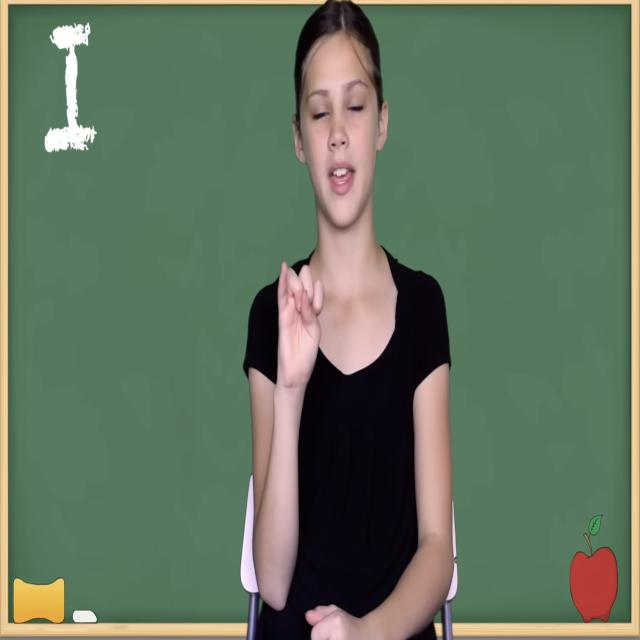I: (260, 248, 344, 412)
